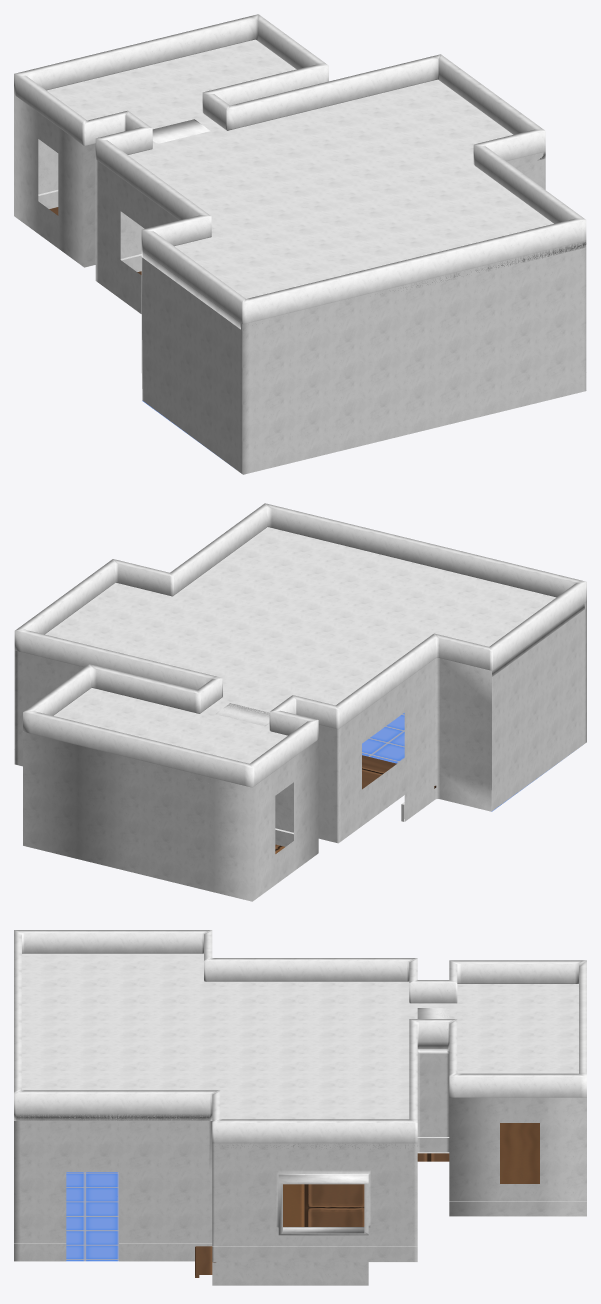
Rendered from Interior_Structure.fbx.
The picture shows the model from 3 angles, top to bottom: view 1: azimuth 30°, elevation 25°; view 2: azimuth 150°, elevation 25°; view 3: azimuth 270°, elevation 25°; orthographic projection. The views are drawn at different scales.
Visible parts, largest first — view 1: U_Wall, U_Ceiling; view 2: U_Wall, U_Ceiling, U_Floor_1, U_Floor; view 3: U_Wall, U_Ceiling, U_Floor, U_Floor_1.
Part boxes in pixels (x1,y1,x2,y2): U_Wall: [14, 14, 586, 474]; U_Ceiling: [46, 39, 553, 298]; U_Wall: [14, 503, 586, 901]; U_Ceiling: [45, 527, 556, 763]; U_Floor_1: [362, 713, 568, 811]; U_Floor: [275, 755, 436, 853]; U_Wall: [14, 930, 586, 1285]; U_Ceiling: [22, 953, 578, 1119]; U_Floor: [195, 1123, 539, 1277]; U_Floor_1: [66, 1172, 118, 1261].
Size of the model in its own units: 1198 by 465 by 1442.
6 materials, 6 textured.
